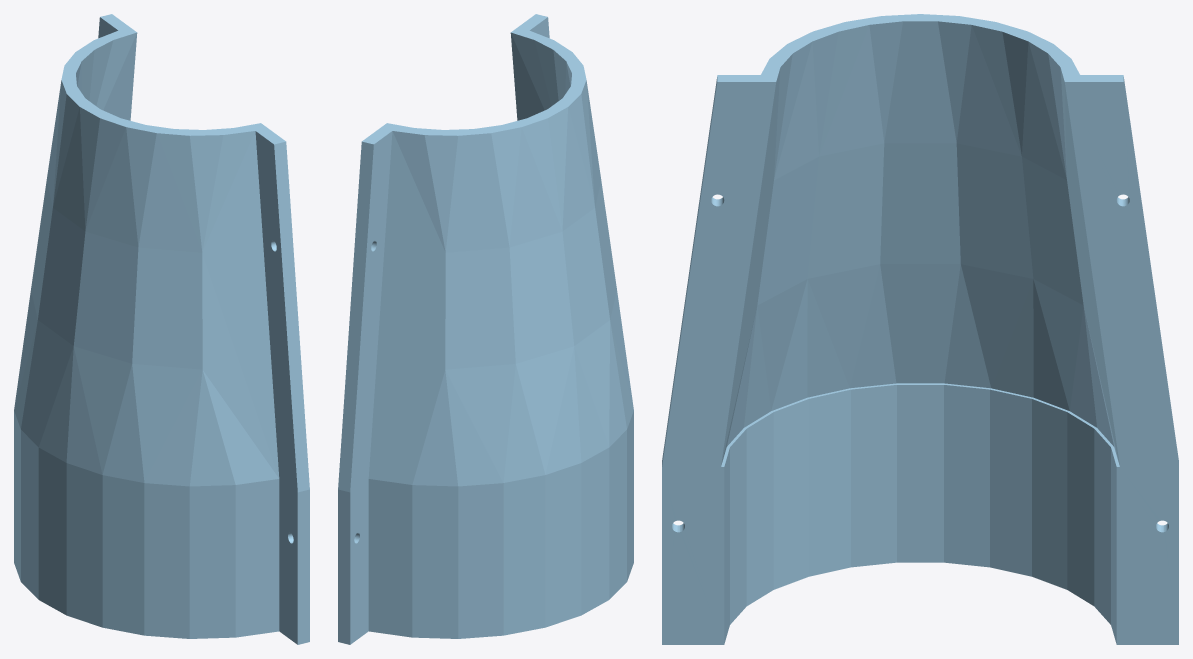
The model's file is Moldudley_real_boattail_mold_.glb.
The picture shows the model from 3 angles, left to right: view 1: azimuth 30°, elevation 25°; view 2: azimuth 150°, elevation 25°; view 3: azimuth 270°, elevation 25°; orthographic projection. The views are drawn at different scales.
Visible parts, largest first — view 1: part-0; view 2: part-0; view 3: part-0.
Part boxes in pixels (x1,y1,x2,y2): part-0: (14,14,309,644); part-0: (338,14,633,644); part-0: (662,14,1178,644).
Size of the model in its own units: 3.3 by 9.5 by 7.9.
